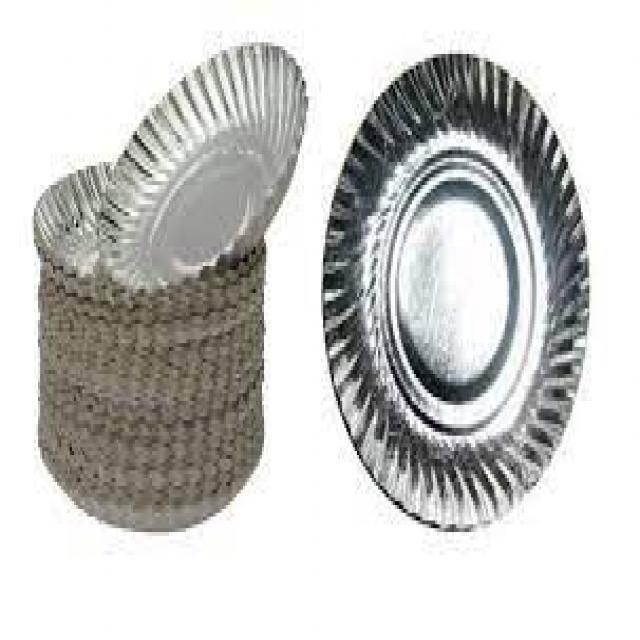Paper -Biodegradable-: (32, 47, 307, 534), (322, 51, 589, 532)
